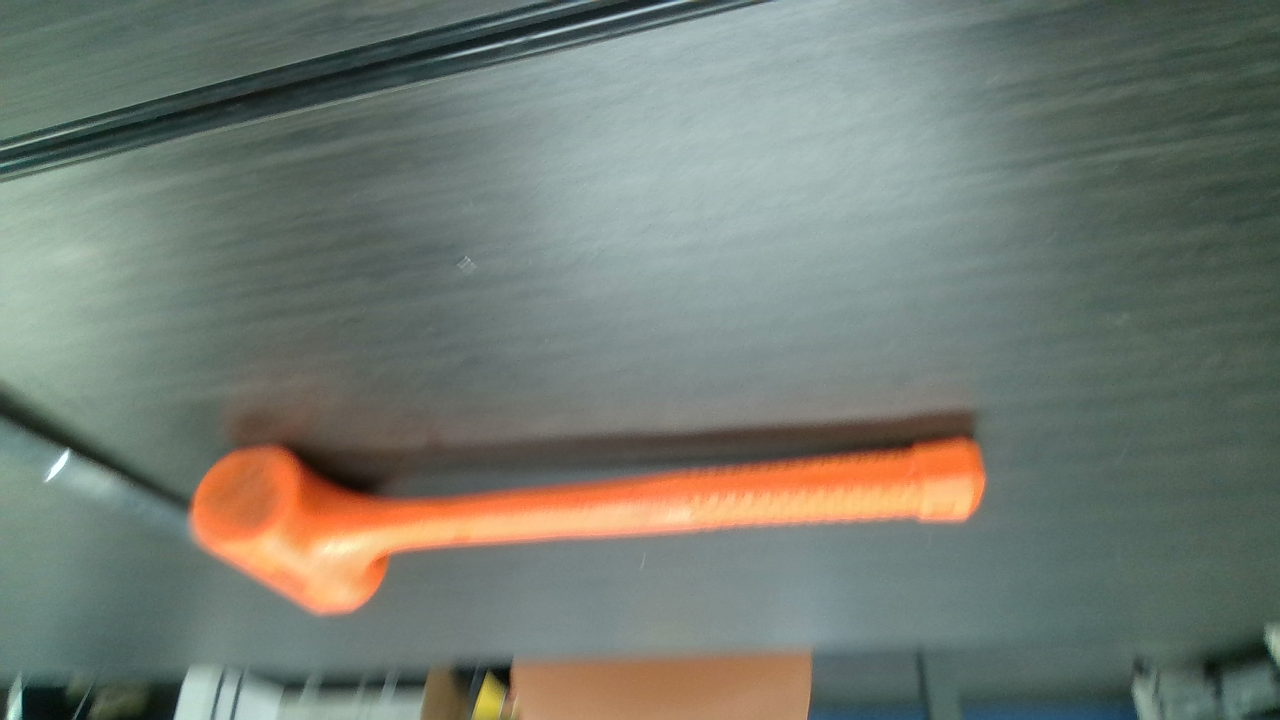Orange Hammer: (195, 431, 985, 615)
